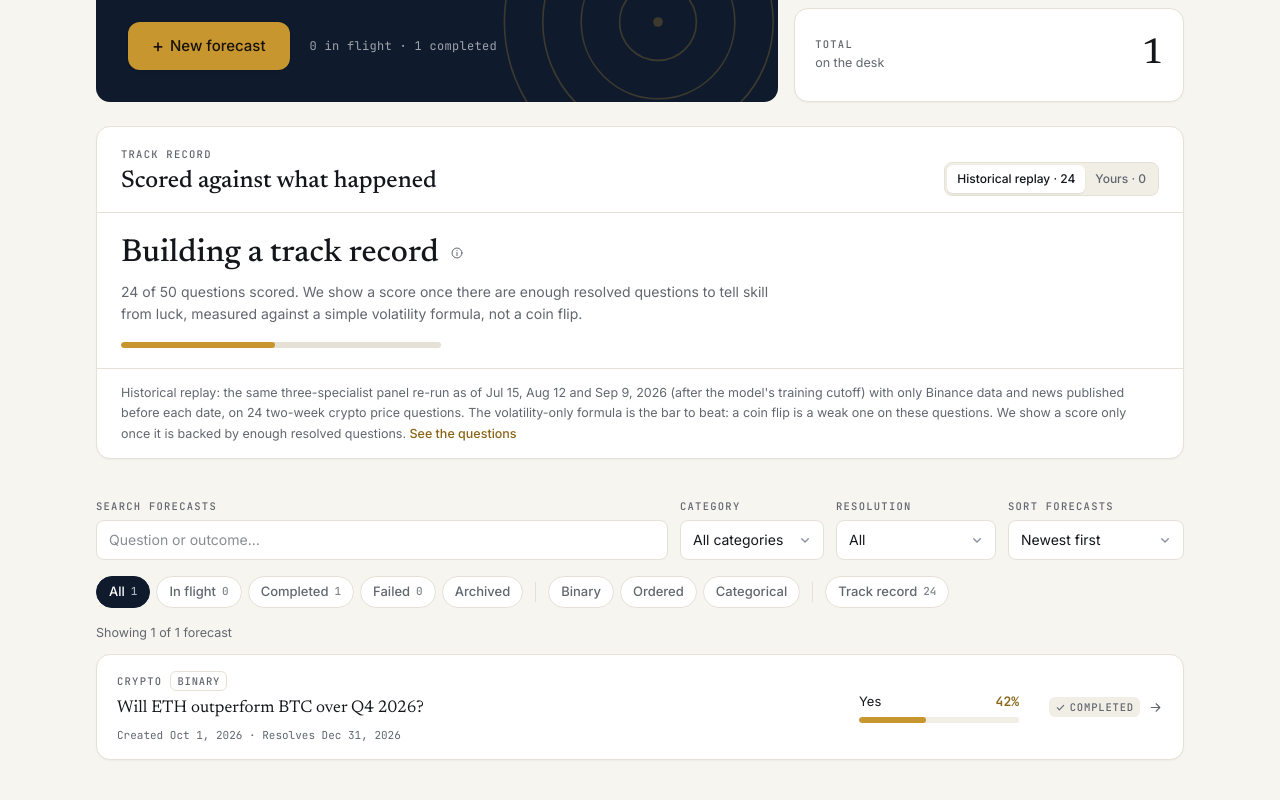
ForecastsPage › retries an archive loading error and shows an honest empty archive
(page scrolled)
Click the button "Archived" at (482, 592), box [442,576,523,608]
(page scrolled)
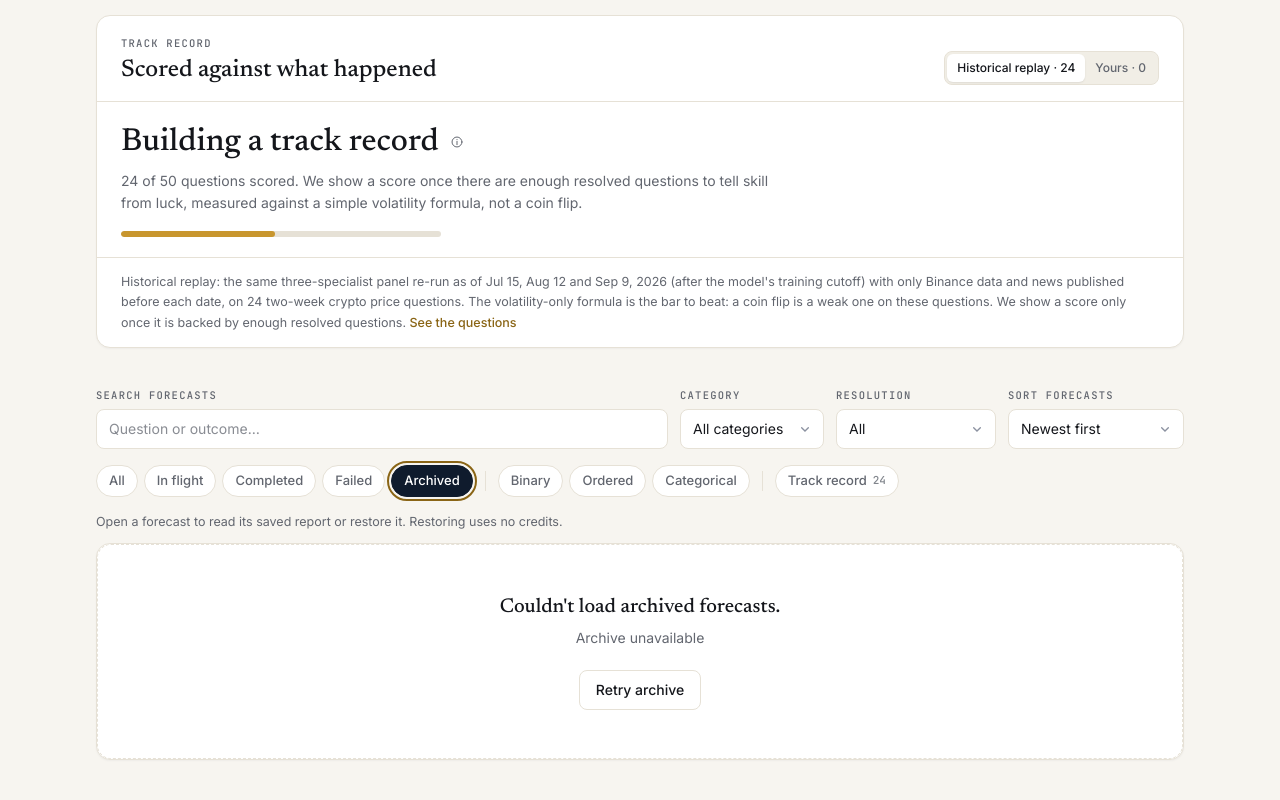
Check: the text "Archive unavailable" is shown, box [576,628,704,650]
Click the button "Retry archive" at (640, 690), box [579,670,701,710]
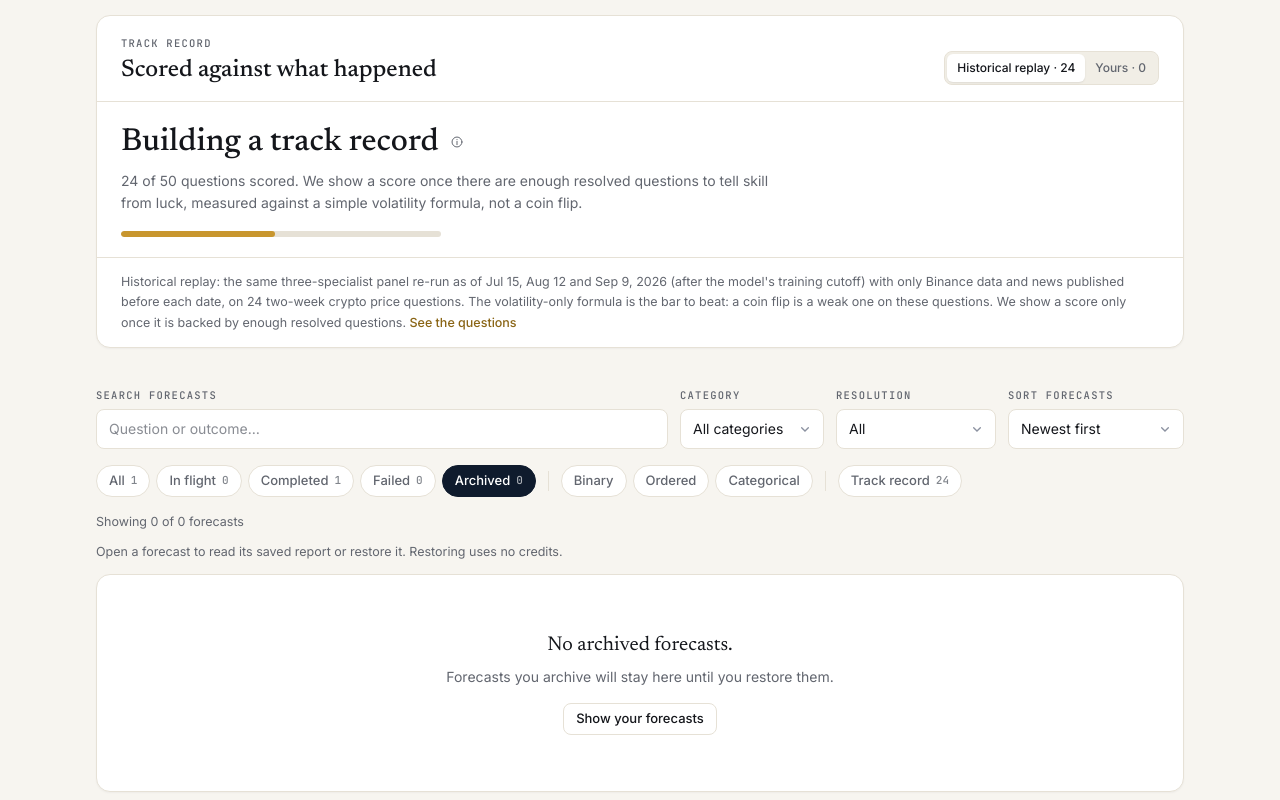
Check: the text "No archived forecasts." is shown, box [547,635,733,655]
